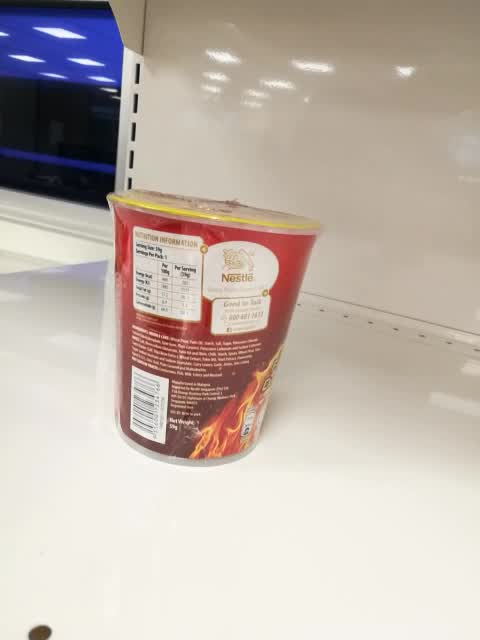maggi: (104, 187, 327, 468)
